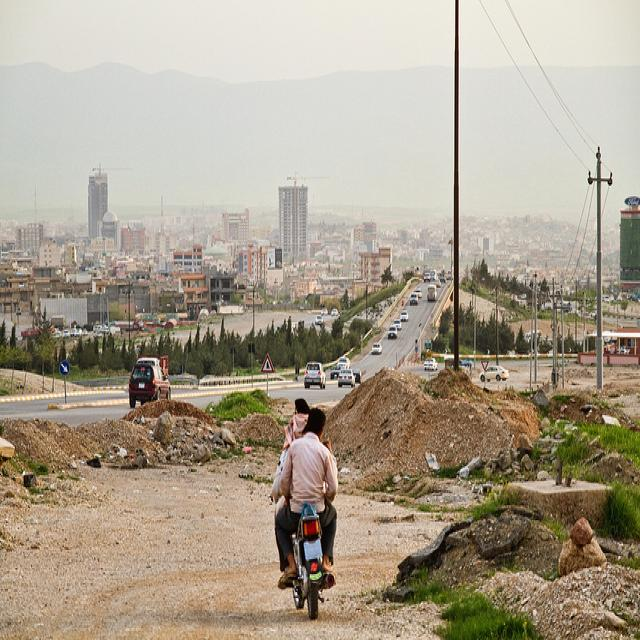motor: (290, 517, 338, 617)
